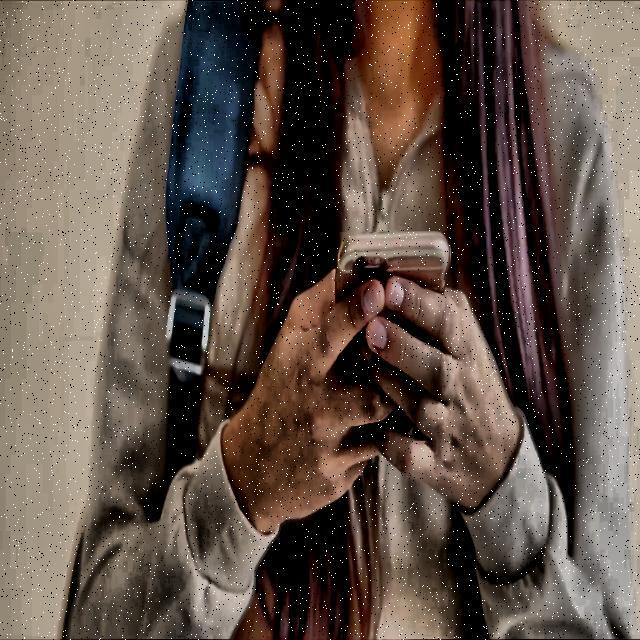Phone: (335, 231, 453, 444)
